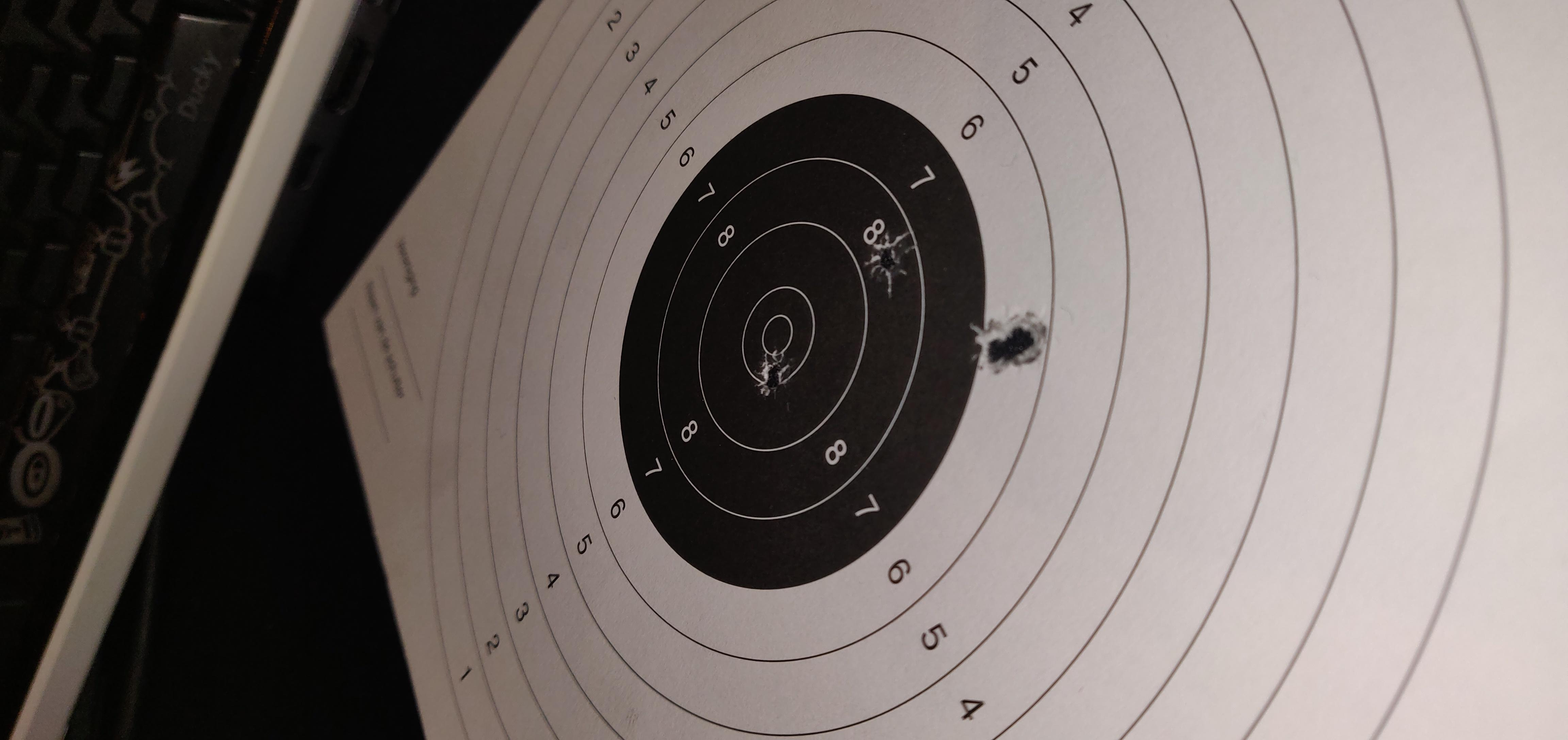hole: (957, 406, 1073, 429), (780, 455, 894, 478), (794, 478, 908, 498), (730, 355, 808, 373)
